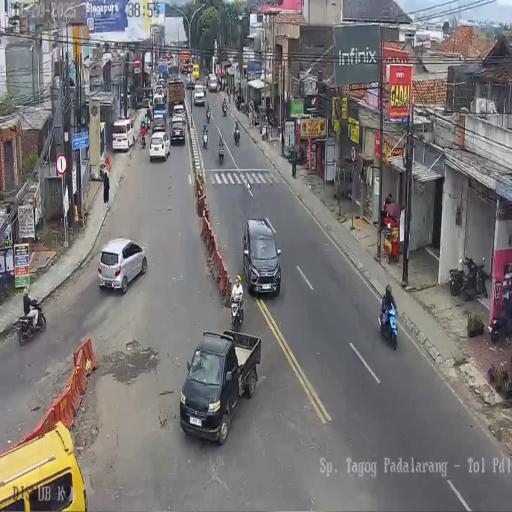car: (243, 218, 282, 298), (97, 237, 147, 294), (112, 117, 136, 152), (148, 132, 170, 162), (170, 118, 185, 145), (151, 114, 167, 133), (194, 83, 206, 106), (172, 104, 185, 122), (153, 90, 165, 106), (208, 76, 219, 92), (186, 73, 195, 89), (192, 63, 200, 79)
motorcycle: (449, 256, 488, 301), (16, 299, 46, 346), (379, 298, 397, 350), (490, 302, 512, 343), (230, 294, 244, 332), (289, 142, 306, 165), (234, 92, 244, 111), (218, 135, 224, 159), (261, 122, 268, 141), (140, 130, 147, 148), (202, 129, 208, 149), (234, 127, 240, 146), (276, 123, 282, 140), (204, 76, 210, 90), (206, 106, 211, 122), (222, 103, 227, 116)
truck: (179, 329, 262, 446), (167, 64, 180, 84), (157, 59, 169, 80), (180, 52, 191, 73), (144, 52, 153, 74)
